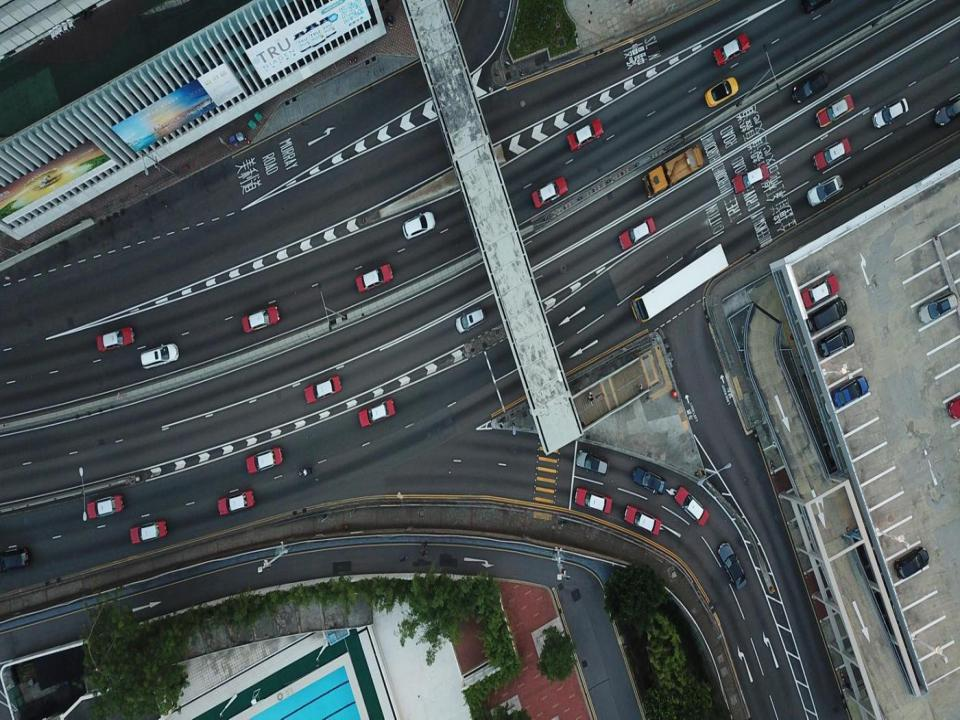bus: (630, 244, 728, 322), (643, 144, 704, 198)
car: (805, 297, 848, 334), (826, 430, 874, 463), (798, 336, 844, 369), (673, 485, 710, 526), (800, 274, 840, 310), (824, 384, 869, 415), (916, 290, 958, 323), (813, 137, 852, 172), (718, 542, 747, 589), (817, 324, 855, 359), (816, 93, 854, 128), (831, 375, 868, 410), (792, 71, 831, 104), (624, 503, 661, 536), (618, 217, 655, 250), (806, 174, 844, 206), (894, 546, 929, 580), (713, 33, 750, 65), (304, 374, 343, 404), (531, 176, 567, 208), (566, 120, 604, 150), (354, 264, 394, 292), (632, 465, 668, 496), (241, 305, 280, 333), (872, 98, 908, 128), (575, 486, 612, 515), (732, 164, 770, 192), (359, 398, 395, 427), (246, 446, 283, 474), (704, 77, 738, 107), (218, 489, 256, 515), (140, 343, 179, 368), (86, 493, 124, 518), (402, 210, 434, 239), (97, 327, 135, 351), (130, 519, 168, 543), (454, 306, 486, 334), (932, 94, 960, 126), (575, 450, 609, 475), (1, 545, 28, 573), (803, 0, 836, 13)
